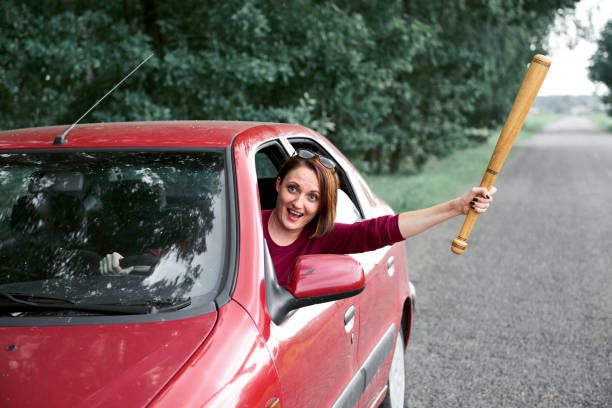bita: (453, 51, 551, 250)
